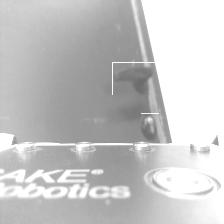Door Handle: (112, 62, 155, 95)
Lock: (141, 113, 159, 140)
